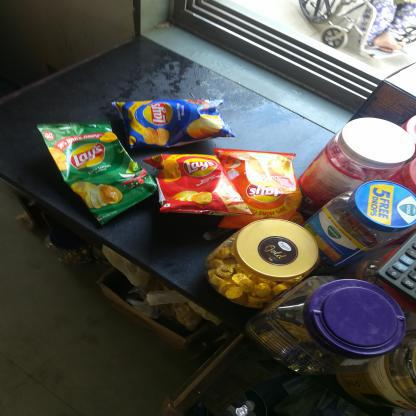chile_limon: (36, 124, 157, 218)
hot_and_sweet: (217, 145, 300, 231)
indian_magic_masala: (108, 100, 251, 151)
tangy_tomato: (145, 154, 245, 219)
